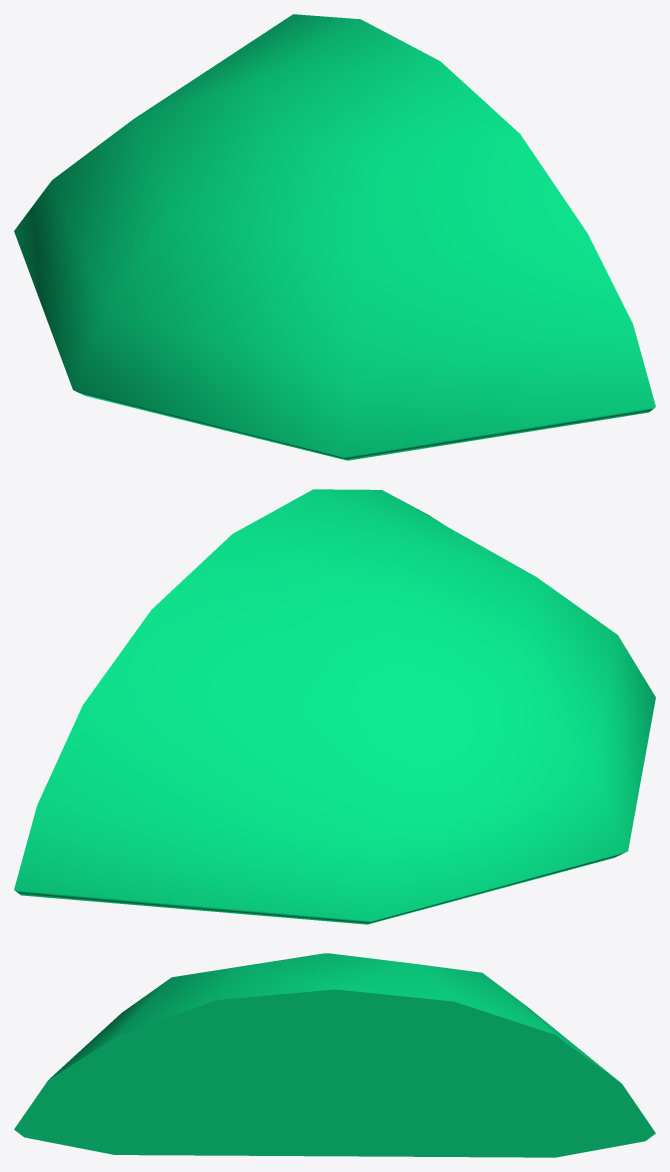
File: Mushroom_Flat_01.fbx
3 views of the same model, one above another, from view 1: azimuth 30°, elevation 25°; view 2: azimuth 150°, elevation 25°; view 3: azimuth 270°, elevation 25° (orthographic). The views are drawn at different scales.
Visible parts, largest first — view 1: Mushroom_Flat_01; view 2: Mushroom_Flat_01; view 3: Mushroom_Flat_01.
Boxes of the visible parts, x1,y1,x2,y2 form: Mushroom_Flat_01: [14, 14, 655, 460]; Mushroom_Flat_01: [14, 489, 655, 924]; Mushroom_Flat_01: [14, 953, 655, 1157].
Size of the model in its own units: 41.57 by 25.97 by 81.91.
